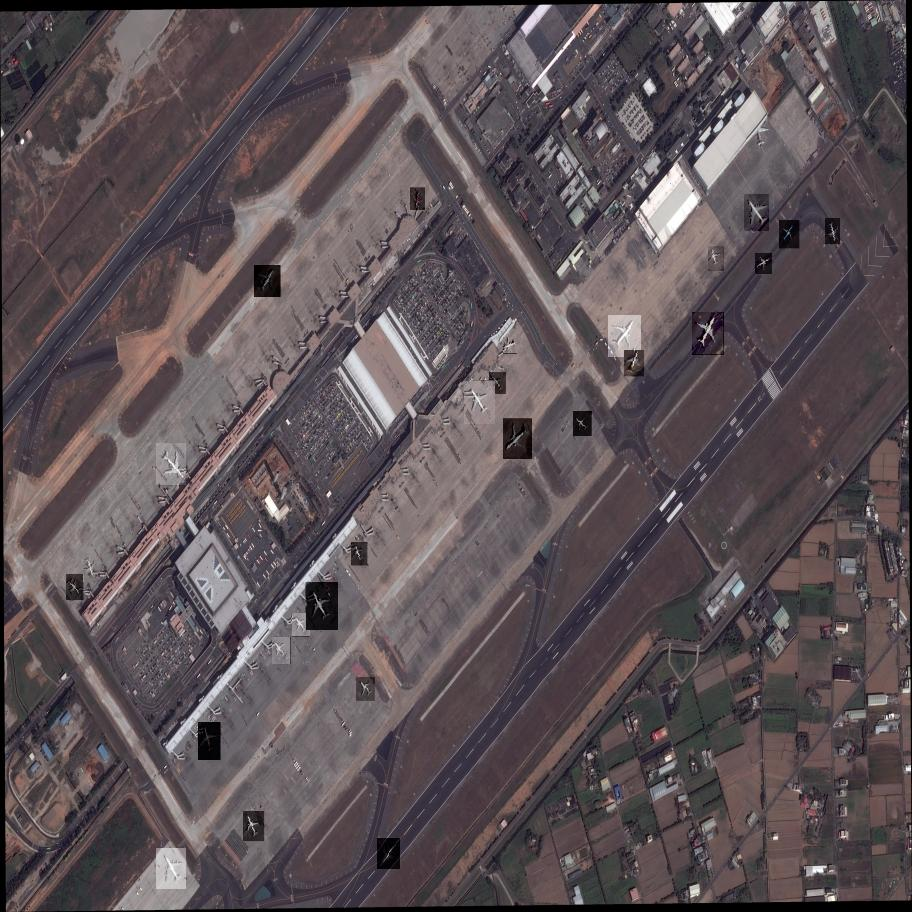plane: (302, 583, 342, 630), (497, 419, 539, 460), (605, 315, 646, 357), (151, 443, 190, 486), (460, 381, 499, 424), (689, 313, 727, 355), (154, 849, 192, 891), (741, 195, 774, 232), (253, 266, 285, 298), (373, 838, 403, 869), (198, 723, 222, 760), (240, 811, 267, 842), (778, 220, 803, 248), (270, 637, 294, 664), (570, 411, 595, 436), (64, 574, 88, 600), (81, 555, 102, 582), (624, 350, 645, 377), (355, 677, 377, 701), (752, 254, 776, 275), (823, 218, 841, 245), (290, 614, 311, 637), (488, 373, 508, 395), (351, 543, 369, 566), (708, 247, 725, 270), (409, 188, 425, 210), (503, 337, 517, 354)
